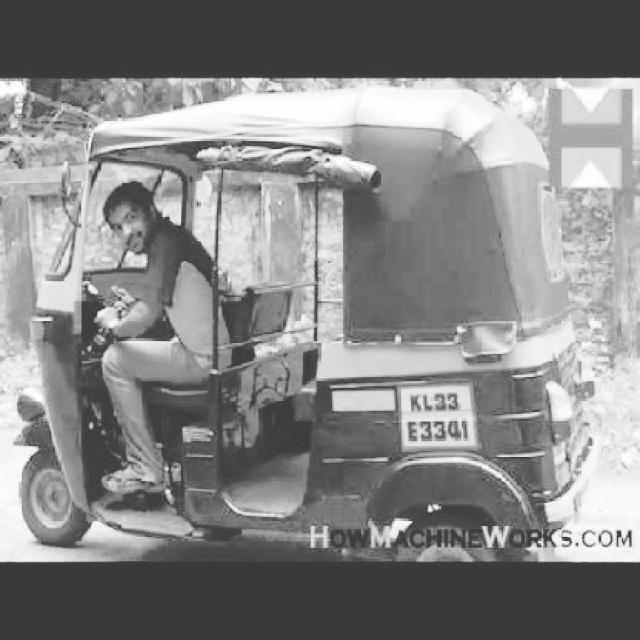Auto-Rickshaw: (11, 100, 600, 566)
